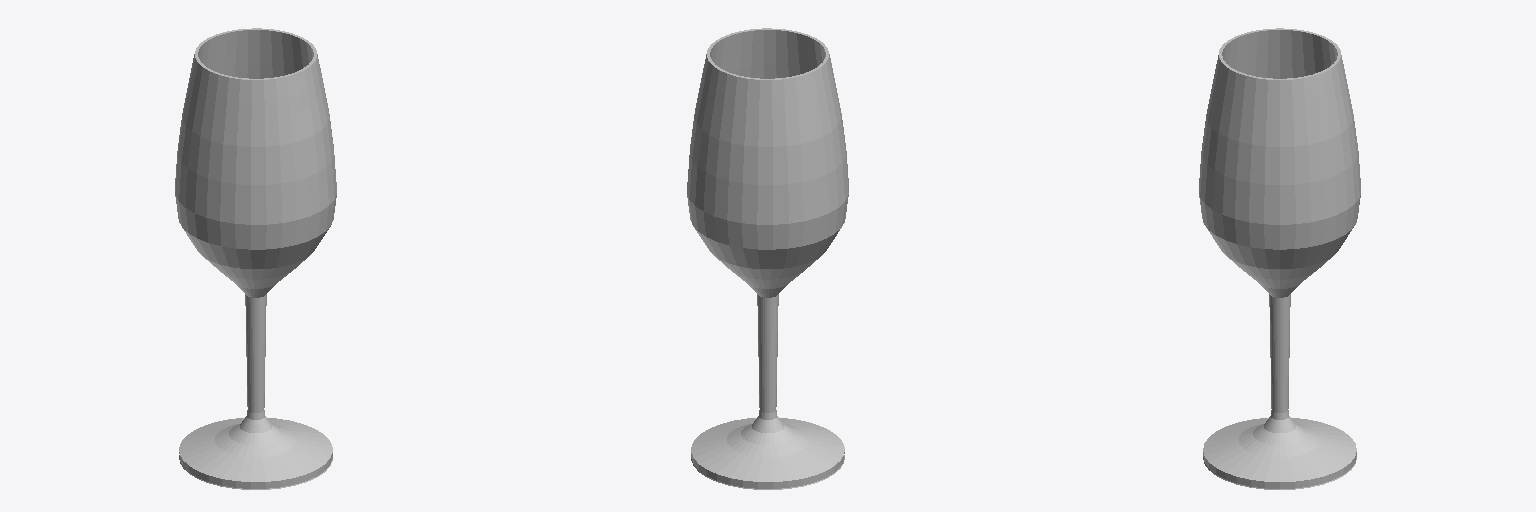
File: Glass.obj
The picture shows the model from 3 angles: view 1: azimuth 30°, elevation 25°; view 2: azimuth 150°, elevation 25°; view 3: azimuth 270°, elevation 25°; orthographic projection.
Visible parts, largest first — view 1: Circle; view 2: Circle; view 3: Circle.
Boxes of the visible parts, box(x1,y1,x2,y2) form: Circle: box(175, 28, 336, 489); Circle: box(687, 28, 848, 489); Circle: box(1199, 28, 1360, 489).
Bounding box in the file's own units: 3.65 × 9.98 × 3.65.